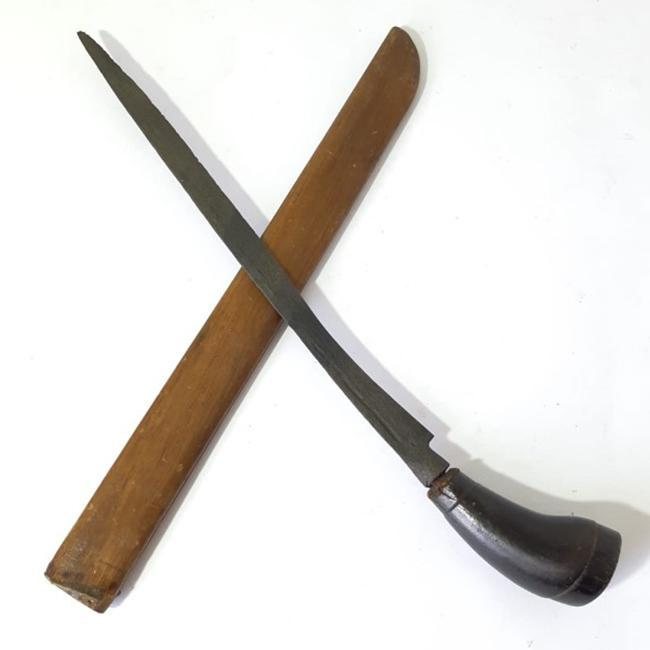facao: (79, 32, 618, 605)
